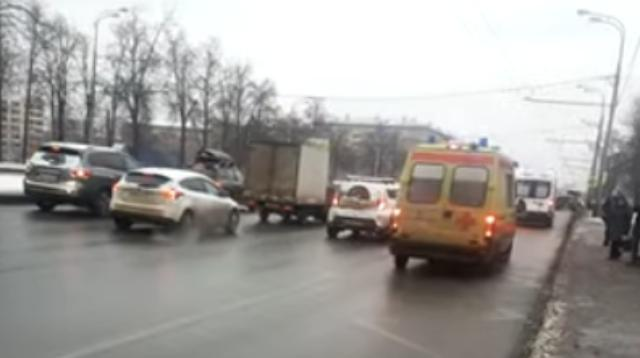intensive care unit: (393, 142, 519, 277)
non emergency car: (112, 166, 241, 241), (24, 144, 132, 216), (246, 139, 330, 227), (328, 177, 399, 241), (515, 170, 560, 228)
